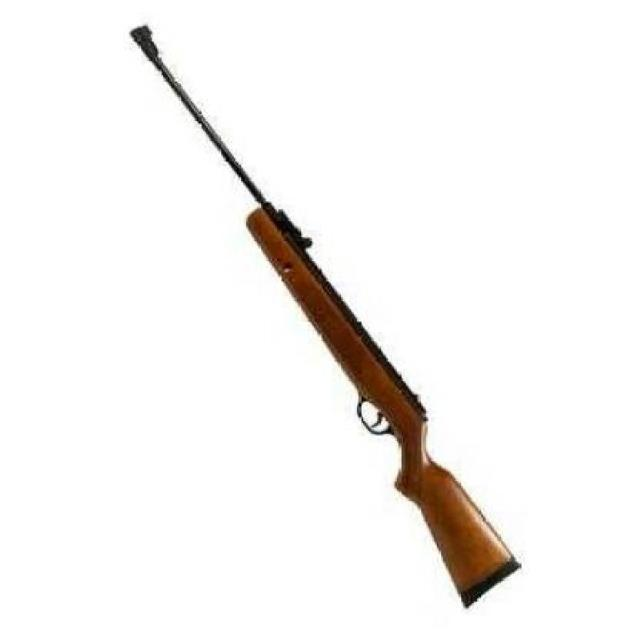weapon: (126, 24, 519, 614)
